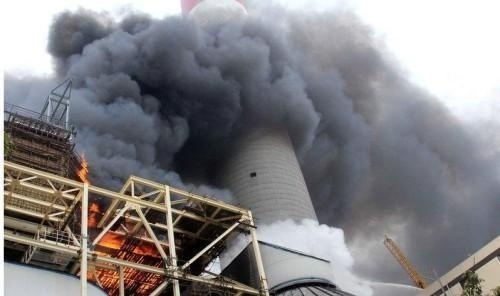fire: (87, 202, 157, 289), (76, 155, 91, 182), (88, 199, 101, 223)
